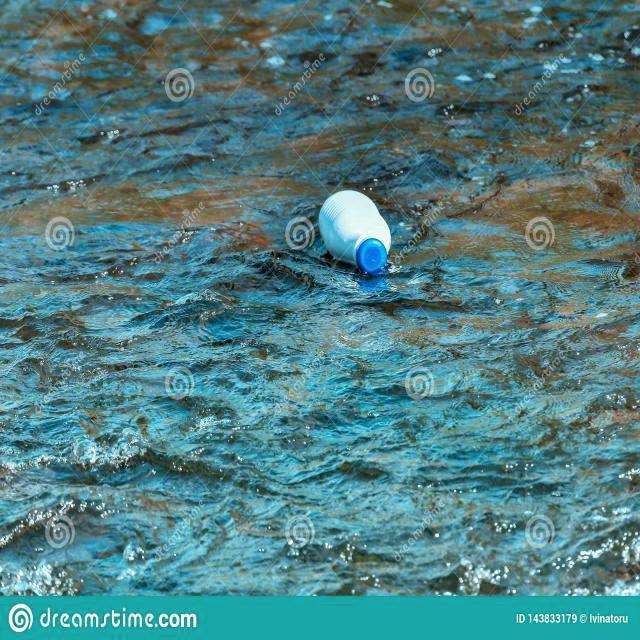Plastic: (313, 179, 392, 277)
